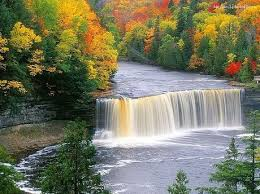forest: (3, 2, 258, 95)
mountain: (6, 6, 254, 191)
waterfall: (99, 60, 255, 179)
